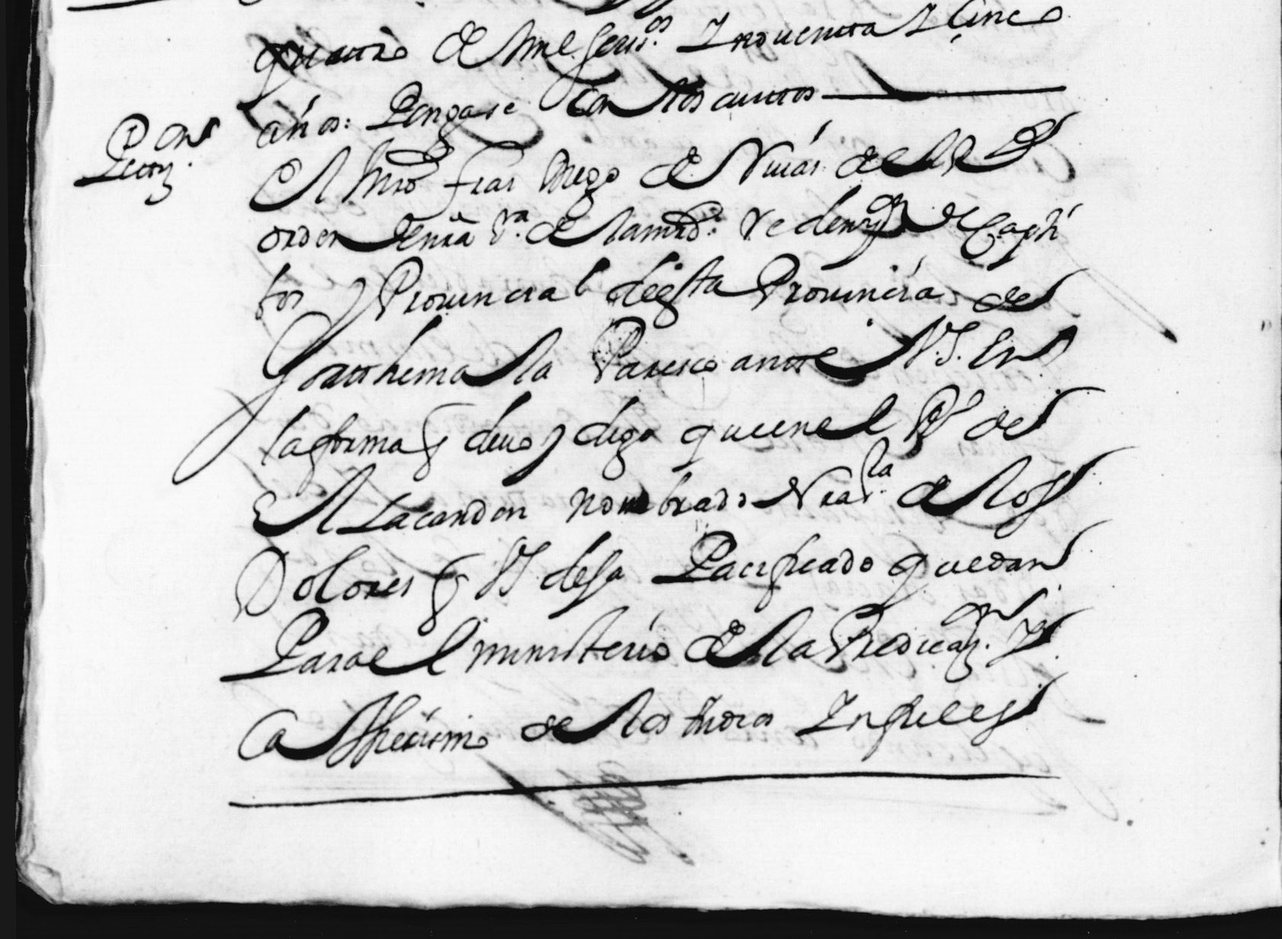lacandon: (336, 492, 527, 534)
